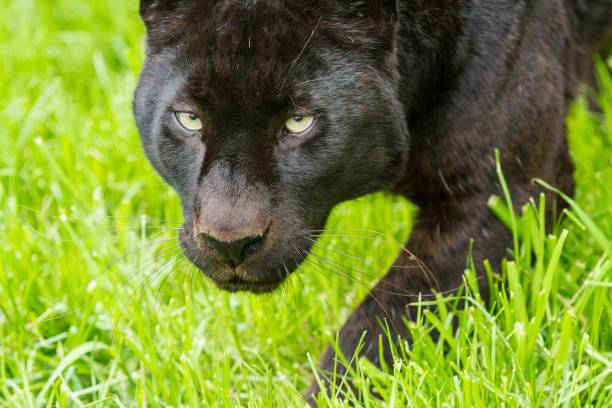panther: (124, 3, 429, 301)
